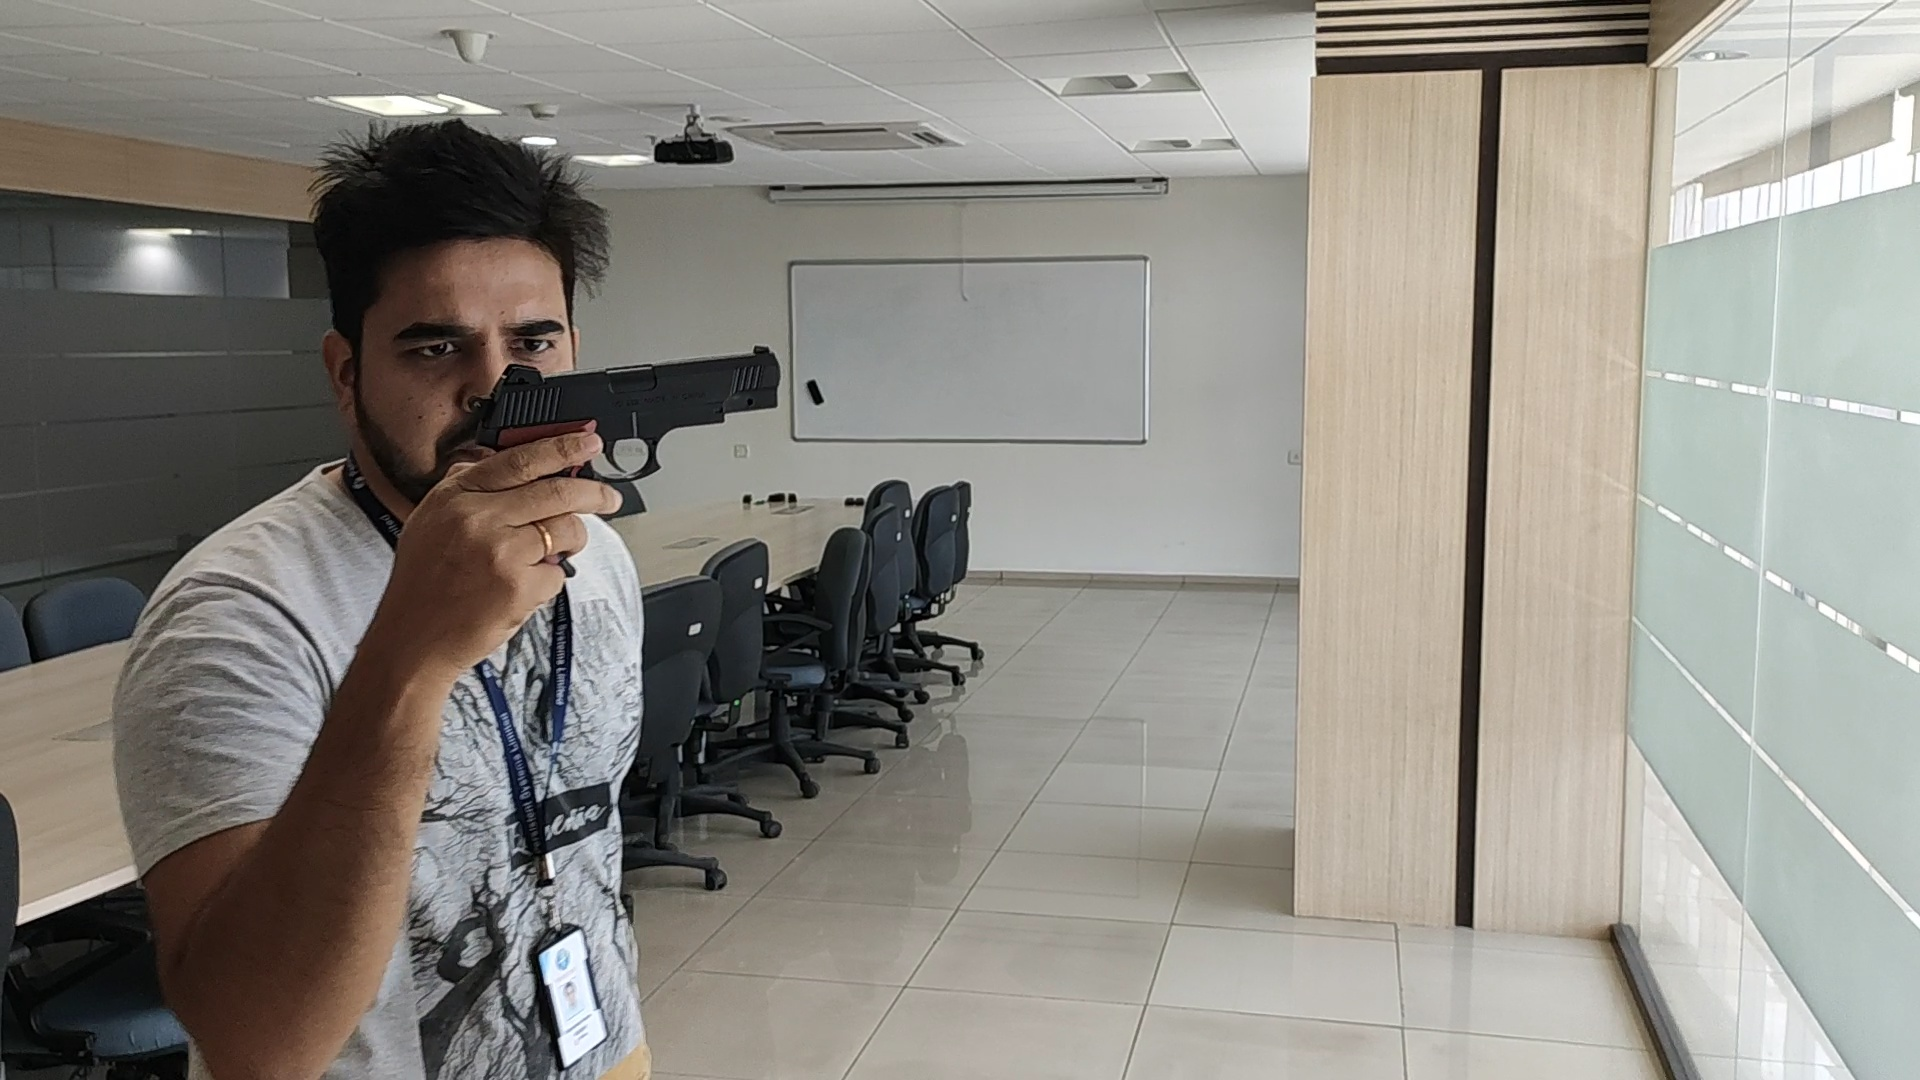gun: (469, 345, 781, 435)
